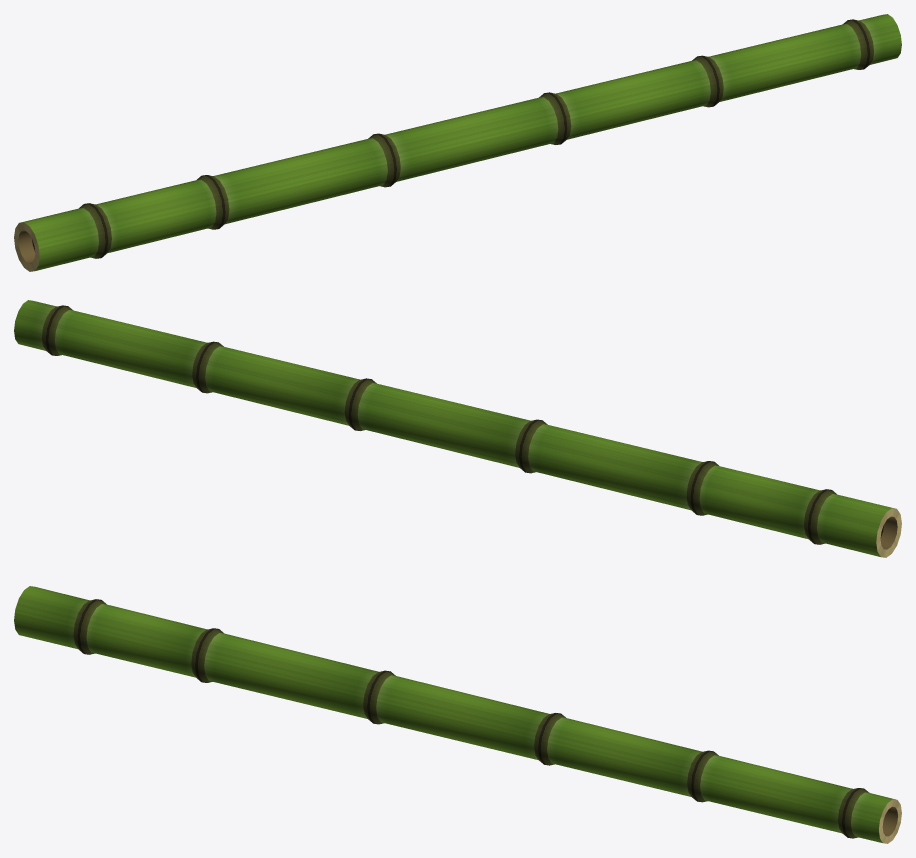
File: bamboo_xlong_unity.fbx
3 renders of one model, top to bottom at view 1: azimuth 30°, elevation 25°; view 2: azimuth 150°, elevation 25°; view 3: azimuth 330°, elevation 25°, orthographic.
Visible parts, largest first — view 1: Bamboo_XLong; view 2: Bamboo_XLong; view 3: Bamboo_XLong.
Boxes of the visible parts, x1,y1,x2,y2 form: Bamboo_XLong: (14, 14, 901, 271); Bamboo_XLong: (14, 300, 901, 557); Bamboo_XLong: (14, 586, 901, 843).
Bounding box in the file's own units: 1.2 × 0.0678 × 0.0695.
1 material, 1 textured.
